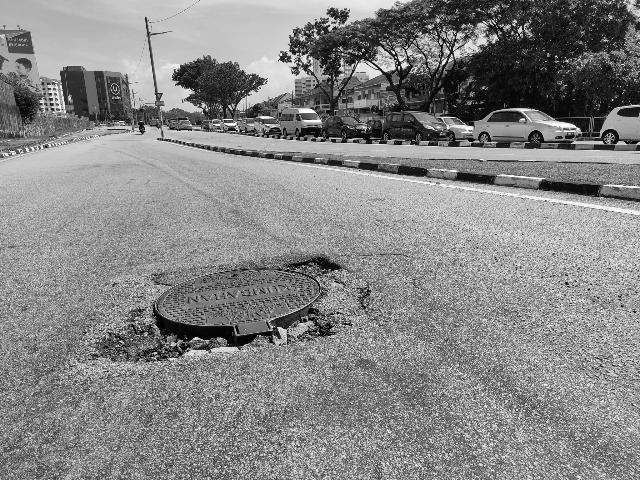Pothole: (95, 253, 349, 364)
